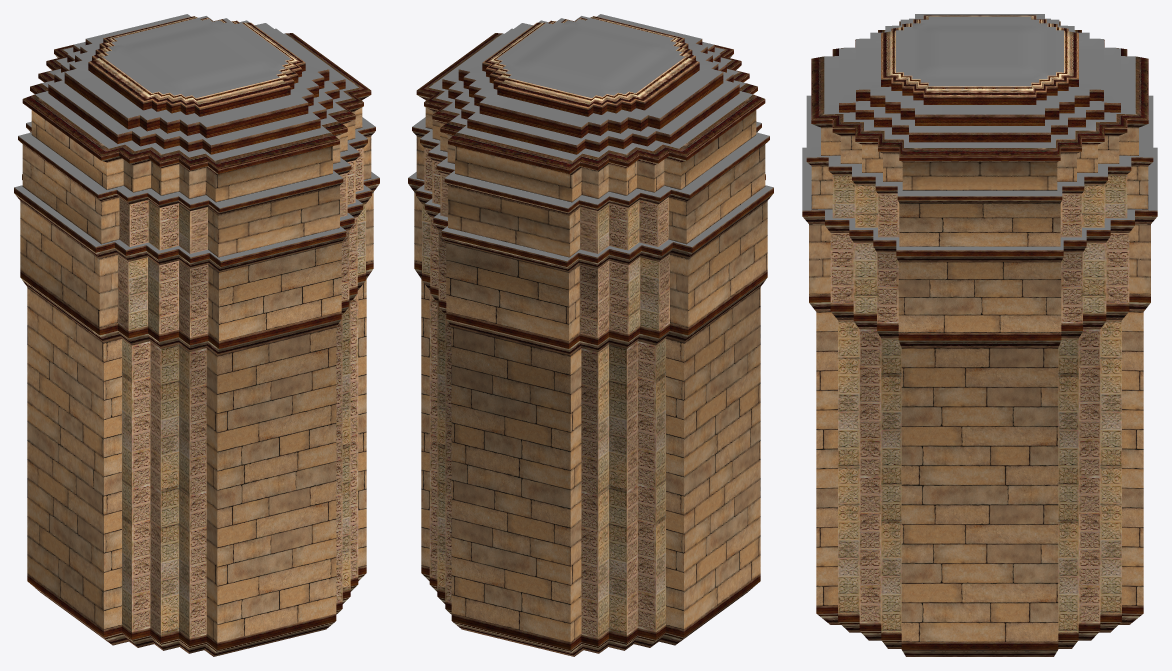
Rendered from Tower_big.fbx.
The picture shows the model from 3 angles, left to right: view 1: azimuth 30°, elevation 25°; view 2: azimuth 150°, elevation 25°; view 3: azimuth 270°, elevation 25°; orthographic projection. The views are drawn at different scales.
Parts seen in each view (by area): view 1: Box074; view 2: Box074; view 3: Box074.
Boxes of the visible parts, x1,y1,x2,y2 form: Box074: (14, 14, 379, 656); Box074: (408, 14, 773, 656); Box074: (802, 14, 1157, 656).
Size of the model in its own units: 1555 by 2791 by 1642.
